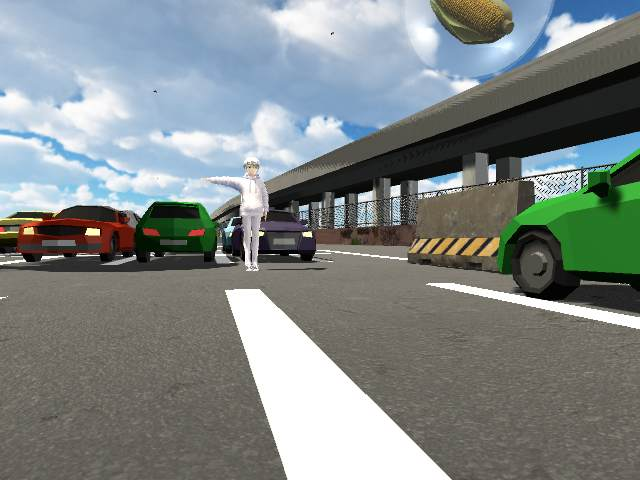singleP_left: (201, 156, 270, 273)
